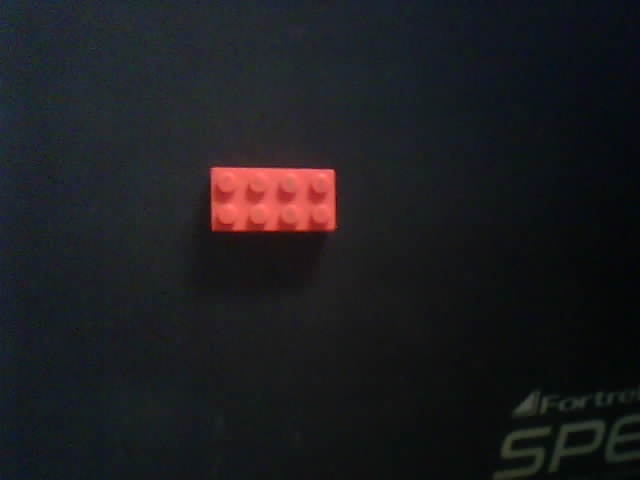lego: (207, 164, 337, 237)
